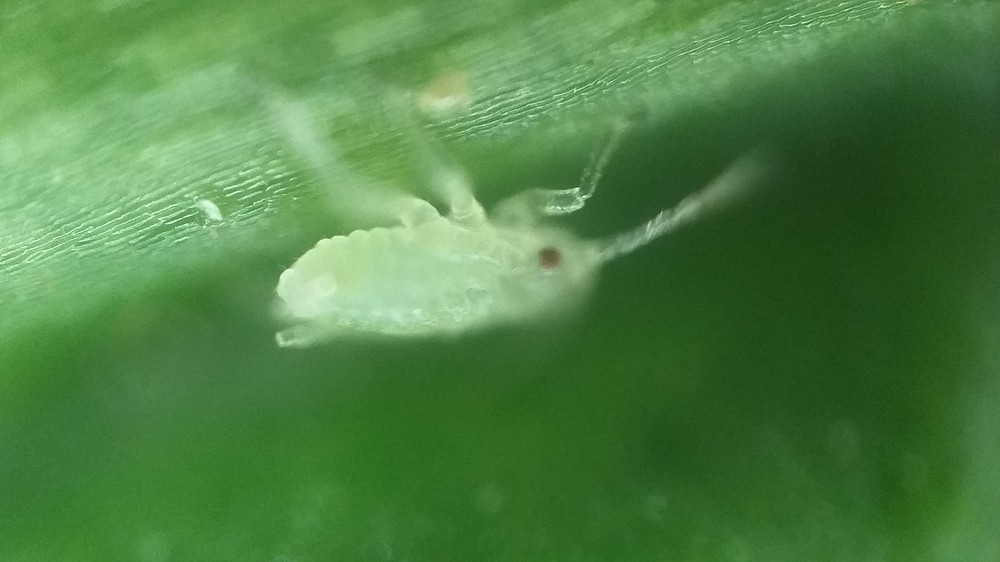Pulgon: (218, 86, 773, 387)
